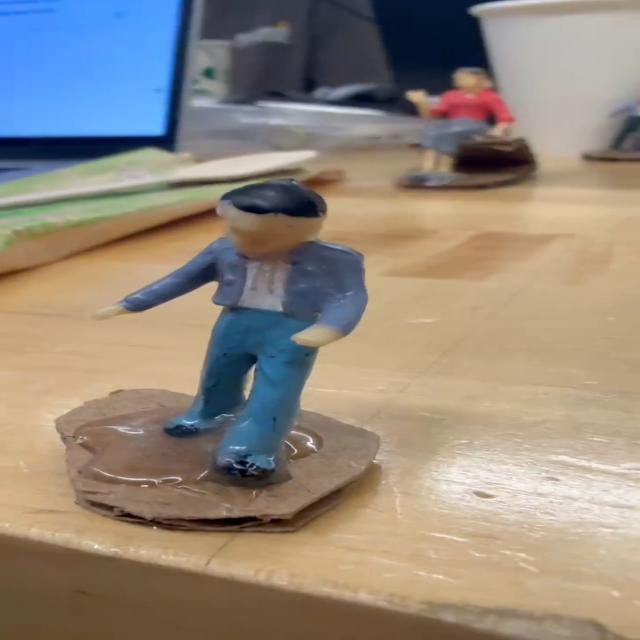Authorized: (85, 162, 391, 522)
